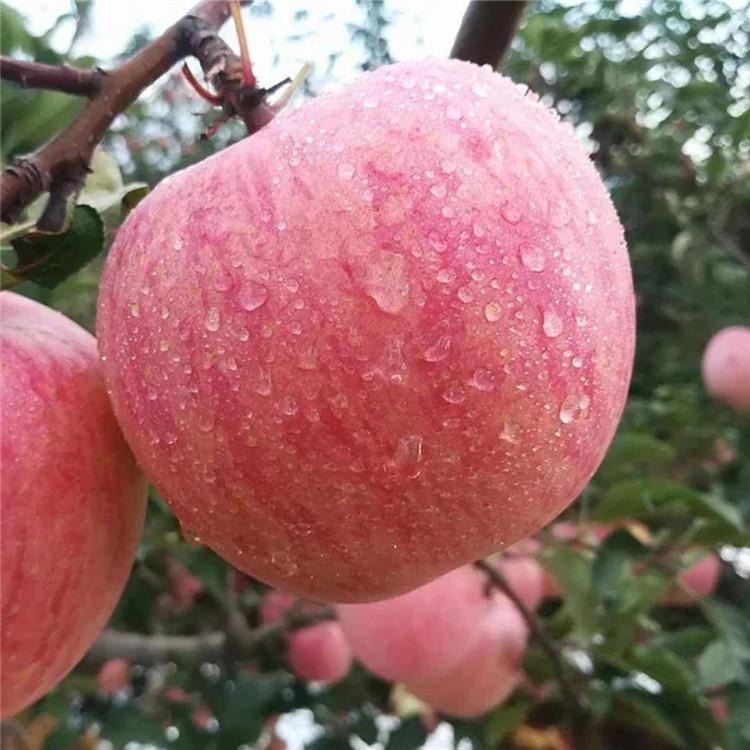apple: (92, 56, 635, 605)
